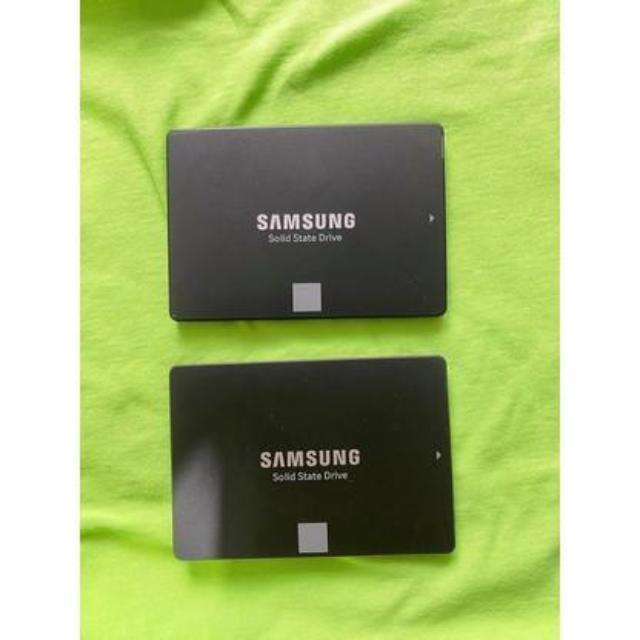DISK: (162, 360, 460, 565), (156, 123, 450, 323)
